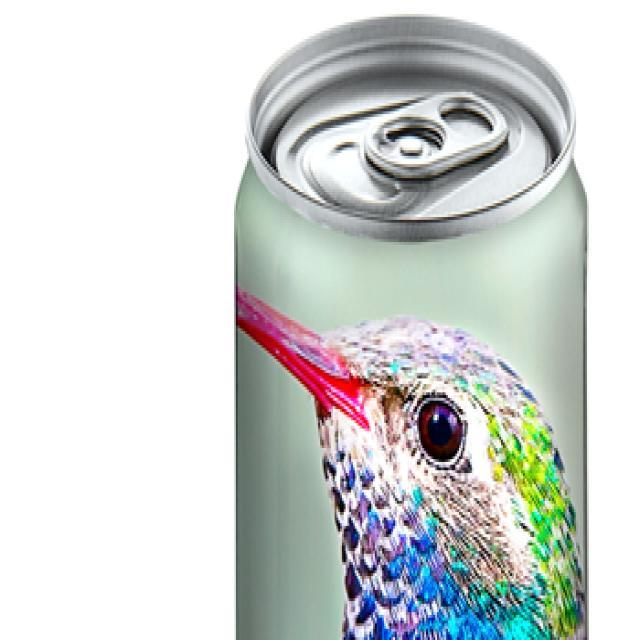can: (227, 0, 616, 640)
